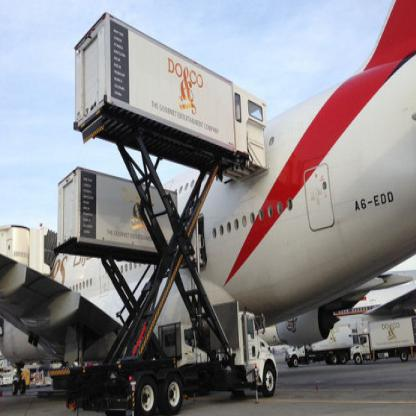Catering truck: (66, 14, 298, 410)
